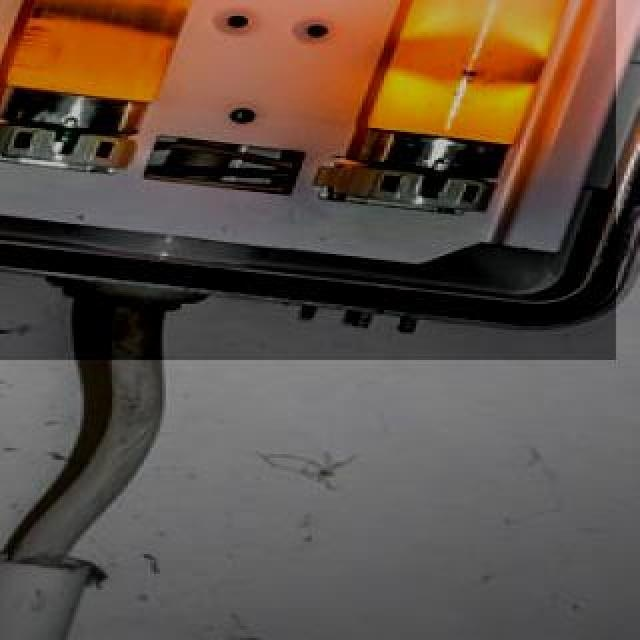fluorescent tube: (0, 0, 386, 206), (308, 0, 640, 236)
